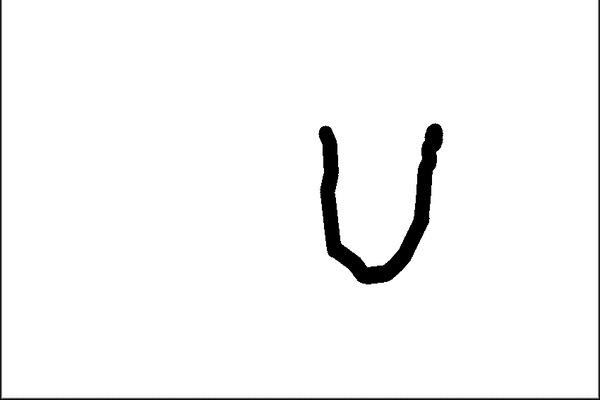U: (310, 106, 446, 289)
